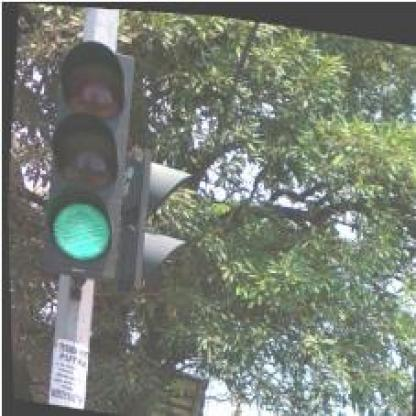green: (36, 40, 133, 283)
